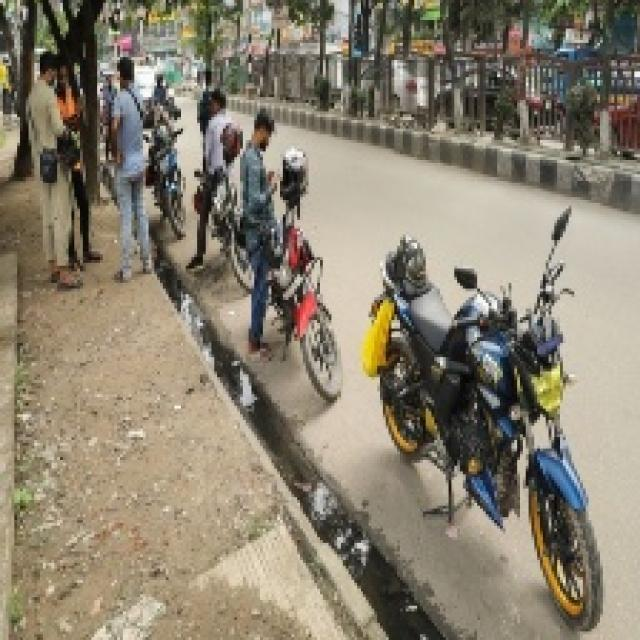bike: (374, 233, 616, 613), (265, 176, 356, 407), (144, 110, 195, 243), (205, 156, 252, 296)
